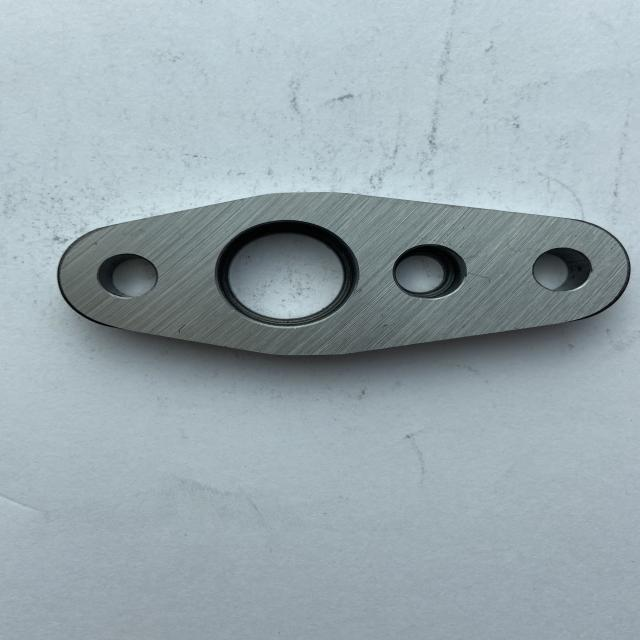chap: (412, 231, 454, 246), (353, 287, 364, 296), (379, 322, 391, 328), (91, 240, 100, 247), (189, 327, 194, 331)
lines: (467, 269, 496, 283), (462, 247, 483, 260), (175, 323, 188, 334)
